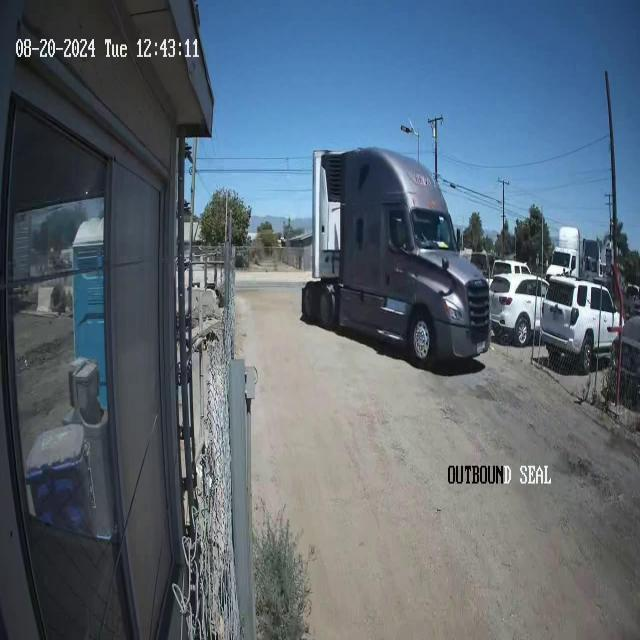TRUCK_IN: (300, 145, 492, 369)
